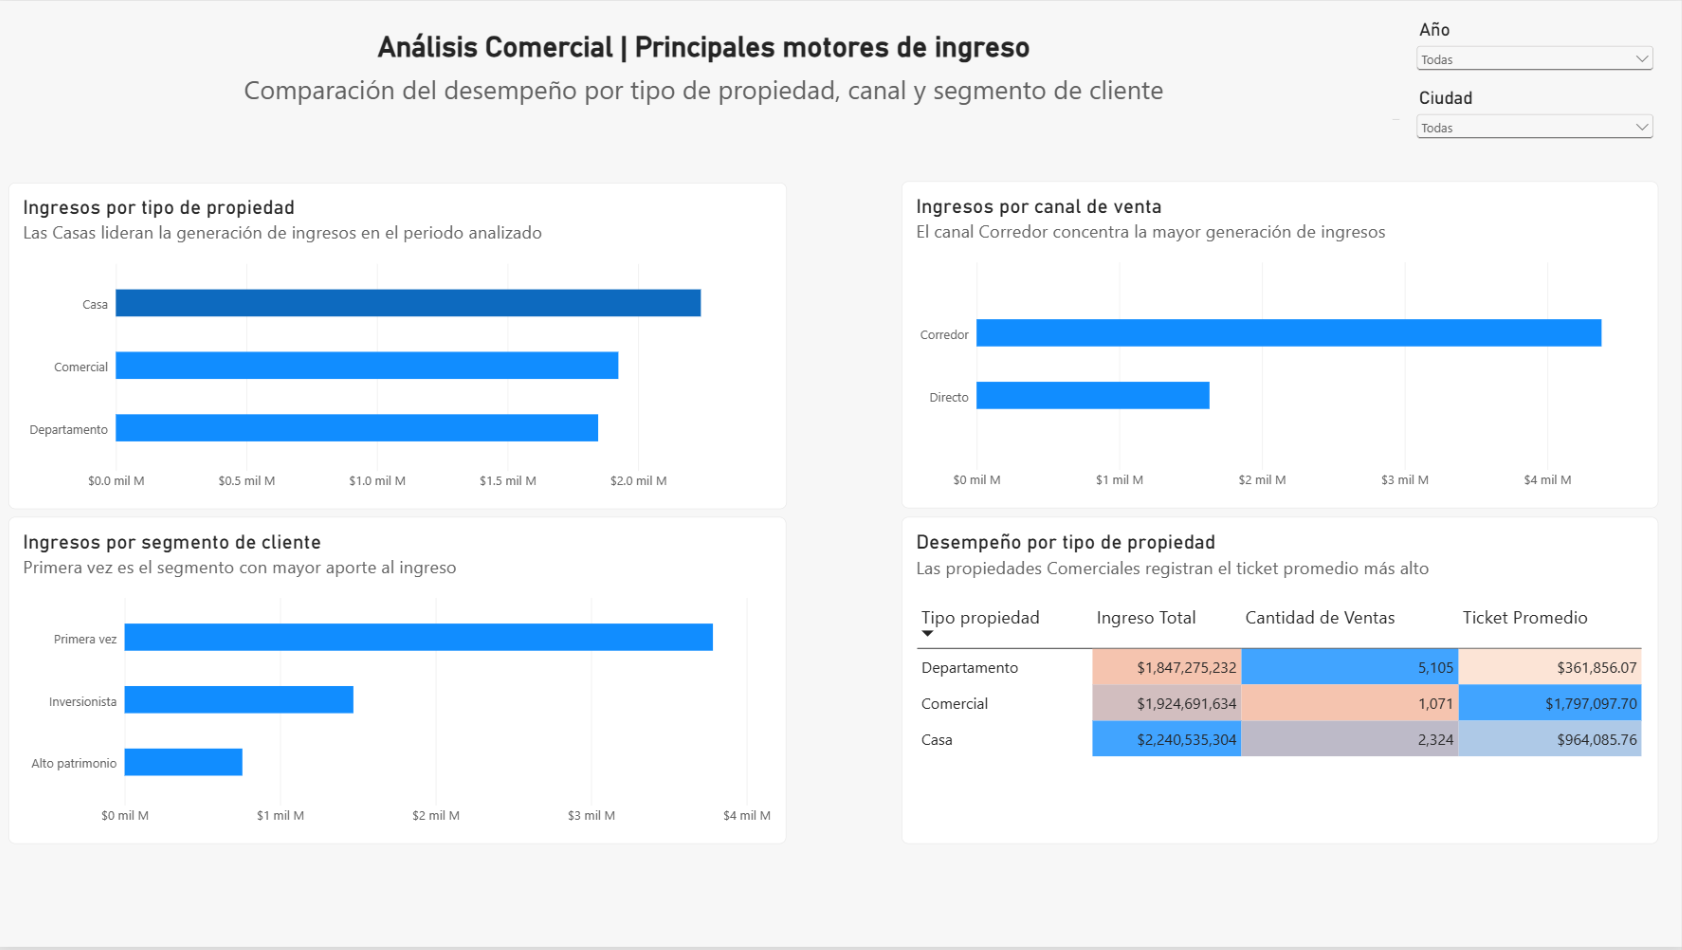

Layout of this report page (visuals, bound fields, positions):
{"tool":"powerbi","page":{"name":"Análisis Comercial","canvas":[1920,1080],"ordinal":1},"visuals":[{"type":"textbox","title":"Análisis Comercial | Principales motores de ingreso","box":[9.5,34.1,1587.8,102.3],"z":0},{"type":"barChart","title":"Ingresos por tipo de propiedad","fields":{"Category":["dim_propiedades.tipo_propiedad"],"Y":["hecho_ventas_propiedades.Ingreso Total"]},"box":[10.4,207.2,888.4,373],"z":1},{"type":"barChart","title":"Ingresos por canal de venta","fields":{"Category":["hecho_ventas_propiedades.canal_venta"],"Y":["hecho_ventas_propiedades.Ingreso Total"]},"box":[1028.8,206.5,864,373.3],"z":2},{"type":"barChart","title":"Ingresos por segmento de cliente","fields":{"Category":["dim_clientes.segmento_comprador"],"Y":["hecho_ventas_propiedades.Ingreso Total"]},"box":[10,590,888,373],"z":3},{"type":"tableEx","title":"Desempeño por tipo de propiedad","fields":{"Values":["dim_propiedades.tipo_propiedad","hecho_ventas_propiedades.Ingreso Total","hecho_ventas_propiedades.Cantidad de Ventas","hecho_ventas_propiedades.Ticket Promedio"]},"box":[1028.8,589.3,864,373.3],"z":4},{"type":"slicer","title":"Año","fields":{"Values":["dim_fecha.Año"]},"box":[1612.4,20.8,280.4,94.7],"z":5},{"type":"slicer","fields":{"Values":["dim_propiedades.ciudad"]},"box":[1612.4,98.5,280.4,73.9],"z":6}]}

Visuals, with their boxes in screenshot pixels (x1, y1, x2, y2), scaled from the page's 1920x1080 canvas onto the 1682x950 screenshot:
"Análisis Comercial | Principales motores de ingreso" textbox: 8/30/1399/120
"Ingresos por tipo de propiedad" barChart: 9/182/787/510
"Ingresos por canal de venta" barChart: 901/182/1658/510
"Ingresos por segmento de cliente" barChart: 9/519/787/847
"Desempeño por tipo de propiedad" tableEx: 901/518/1658/847
"Año" slicer: 1413/18/1658/102
slicer - dim_propiedades.ciudad: 1413/87/1658/152
